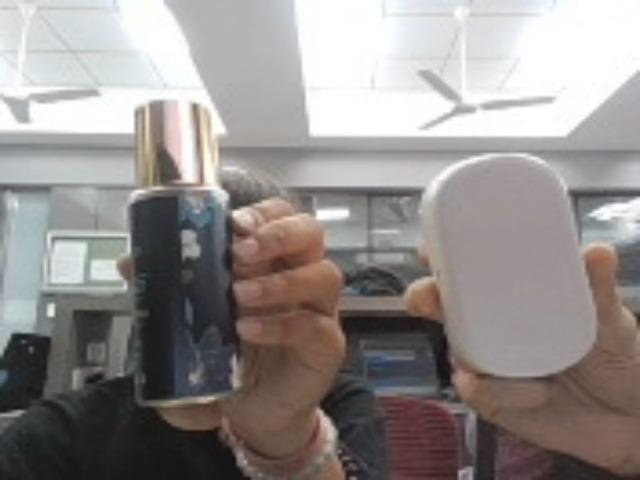box: (404, 149, 611, 386)
cube: (84, 68, 298, 410)
